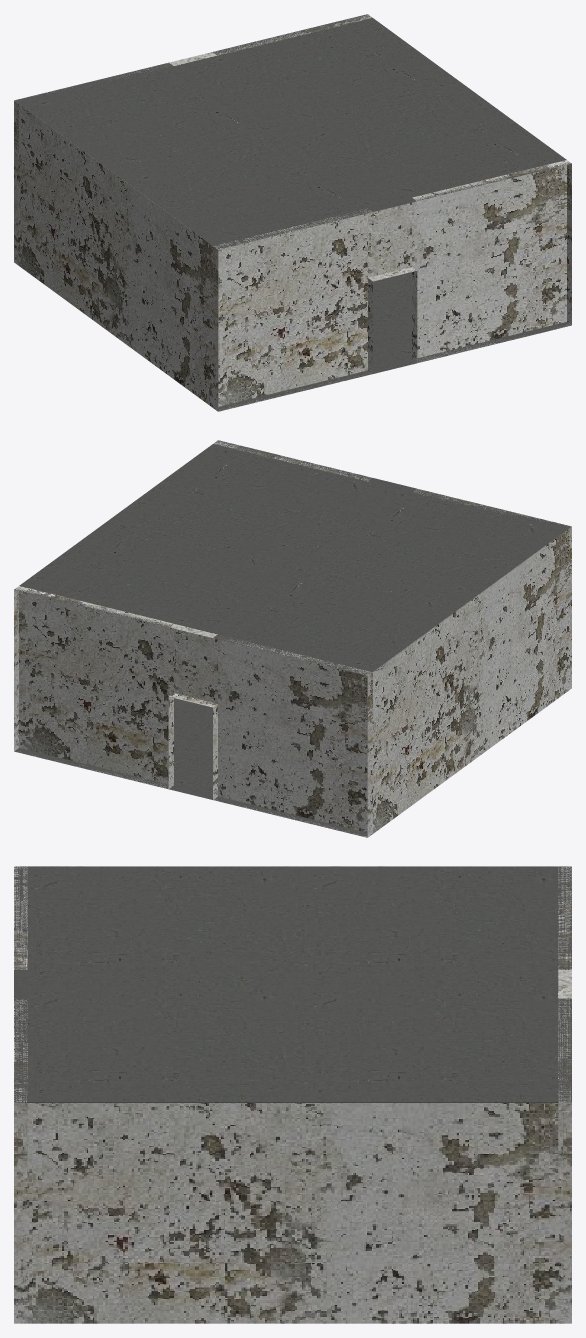
Rendered from room.glb.
3 views of the same model, one above another, from view 1: azimuth 30°, elevation 25°; view 2: azimuth 150°, elevation 25°; view 3: azimuth 270°, elevation 25° (orthographic). The views are drawn at different scales.
Parts seen in each view (by area): view 1: Plane; view 2: Plane; view 3: Plane.
Boxes of the visible parts, left/top/right/bottom form: Plane: left=14, top=14, right=571, bottom=411; Plane: left=14, top=440, right=571, bottom=837; Plane: left=14, top=866, right=571, bottom=1323.
Bounding box in the file's own units: 8 × 3.5 × 8.
1 material, 1 textured.
